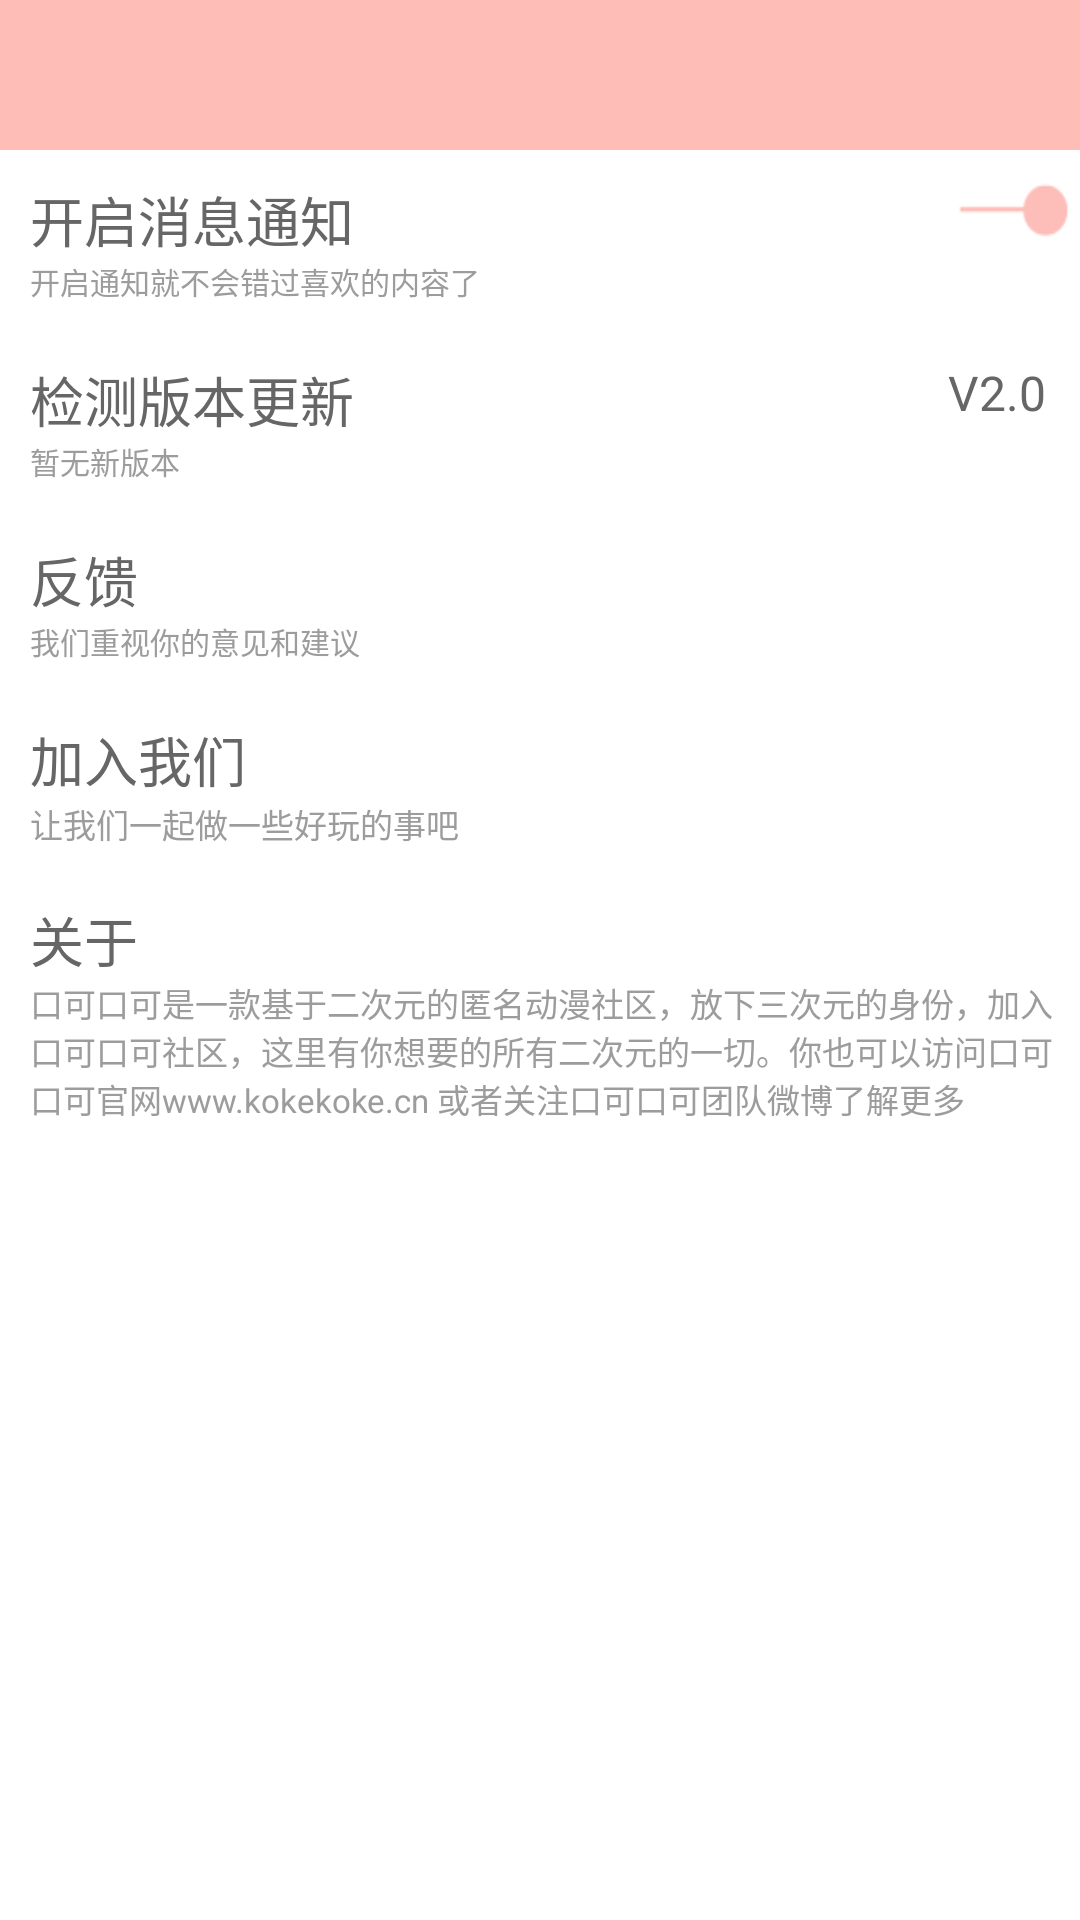

Where icons sit on this 1080 x 1920 app screen, as {"left": x1, "top": y1, "right": x2, "bottom": y2}:
switch on: {"left": 960, "top": 185, "right": 1068, "bottom": 236}
